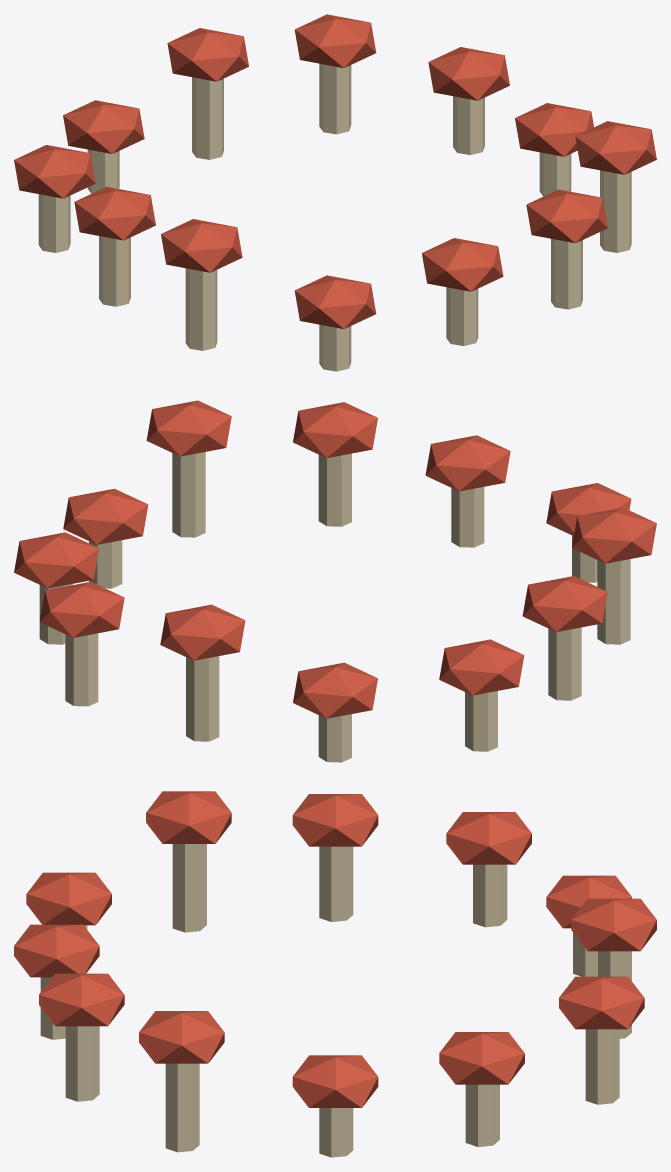
File: SM_MistForestMushroomRing_A.glb
3 views of the same model, one above another, from view 1: azimuth 30°, elevation 25°; view 2: azimuth 150°, elevation 25°; view 3: azimuth 270°, elevation 25° (orthographic). The views are drawn at different scales.
Visible parts, largest first — view 1: SM_MistForestMushroomRing_A; view 2: SM_MistForestMushroomRing_A; view 3: SM_MistForestMushroomRing_A.
Boxes of the visible parts, bbox=[...] form: SM_MistForestMushroomRing_A: bbox=[14, 14, 656, 371]; SM_MistForestMushroomRing_A: bbox=[14, 400, 656, 762]; SM_MistForestMushroomRing_A: bbox=[14, 791, 656, 1157].
Size of the model in its own units: 3.6 by 0.81 by 3.58.
